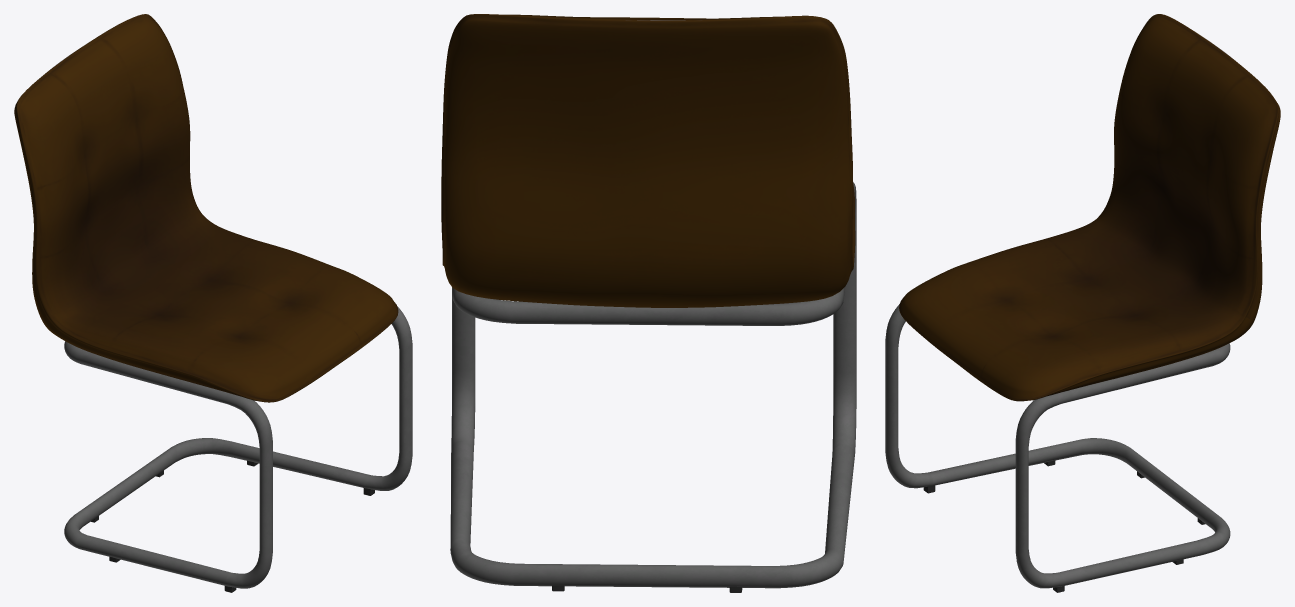
The model's file is cadeira--vintage.glb.
3 views of the same model, side by side, from view 1: azimuth 30°, elevation 25°; view 2: azimuth 150°, elevation 25°; view 3: azimuth 270°, elevation 25° (orthographic). The views are drawn at different scales.
Visible parts, largest first — view 1: SM_Chair17_0; view 2: SM_Chair17_0; view 3: SM_Chair17_0.
Boxes of the visible parts, left/top/right/bottom form: SM_Chair17_0: left=14, top=14, right=412, bottom=592; SM_Chair17_0: left=441, top=14, right=856, bottom=592; SM_Chair17_0: left=885, top=14, right=1280, bottom=592.
Bounding box in the file's own units: 0.7909 × 0.977 × 0.8117.
2 materials, 2 textured.
